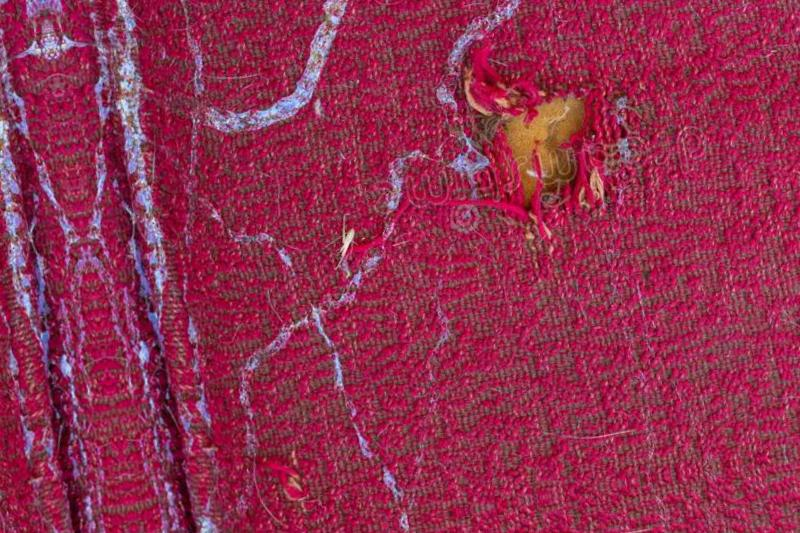hole: (477, 84, 622, 226)
